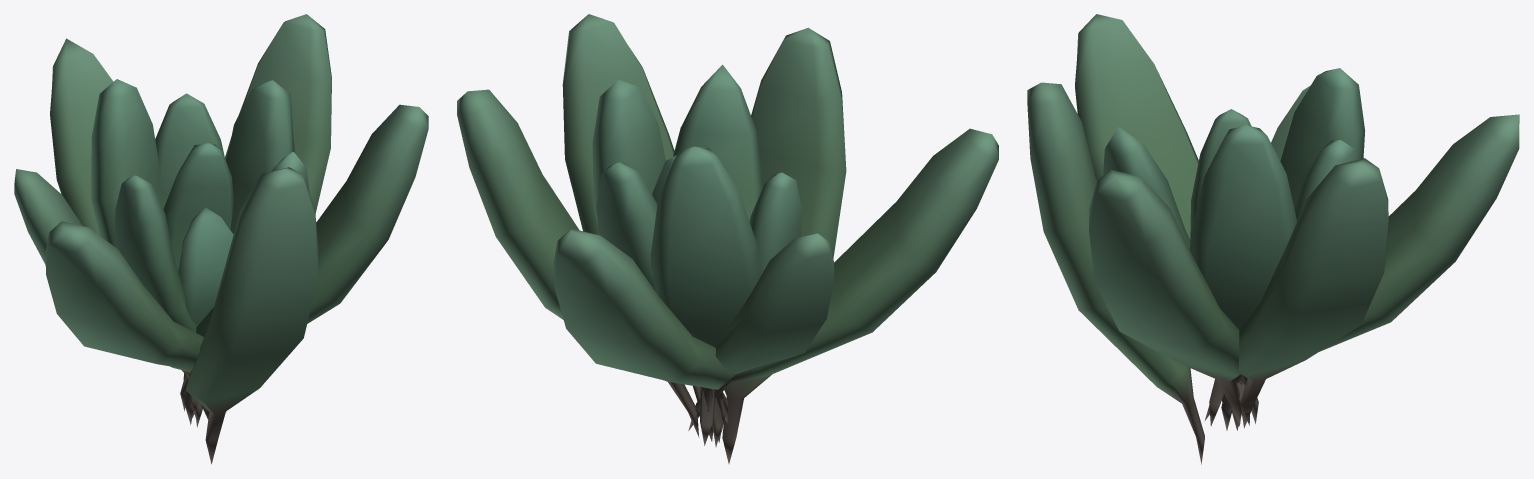
The model's file is plants-cacti-succulents-teal-succulent_v2.glb.
The picture shows the model from 3 angles, left to right: view 1: azimuth 30°, elevation 25°; view 2: azimuth 150°, elevation 25°; view 3: azimuth 270°, elevation 25°; orthographic projection. The views are drawn at different scales.
Parts seen in each view (by area): view 1: Teal Succulent_v2; view 2: Teal Succulent_v2; view 3: Teal Succulent_v2.
Part boxes in pixels (bbox=[...]): Teal Succulent_v2: bbox=[14, 14, 428, 464]; Teal Succulent_v2: bbox=[457, 14, 998, 463]; Teal Succulent_v2: bbox=[1027, 14, 1519, 464].
Bounding box in the file's own units: 0.1496 × 0.1313 × 0.15.
